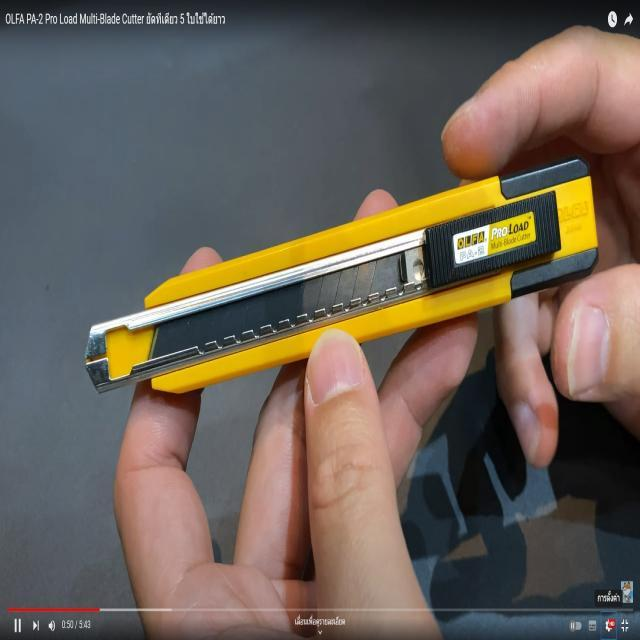cutter: (24, 2, 640, 638)
